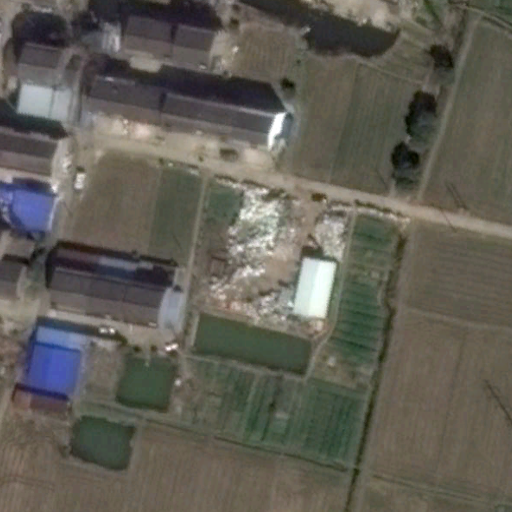msw: (206, 185, 296, 326)
